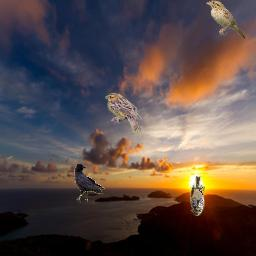Crow: (74, 163, 105, 203)
Sparrow: (206, 0, 246, 39), (105, 93, 142, 133), (190, 176, 205, 216)
